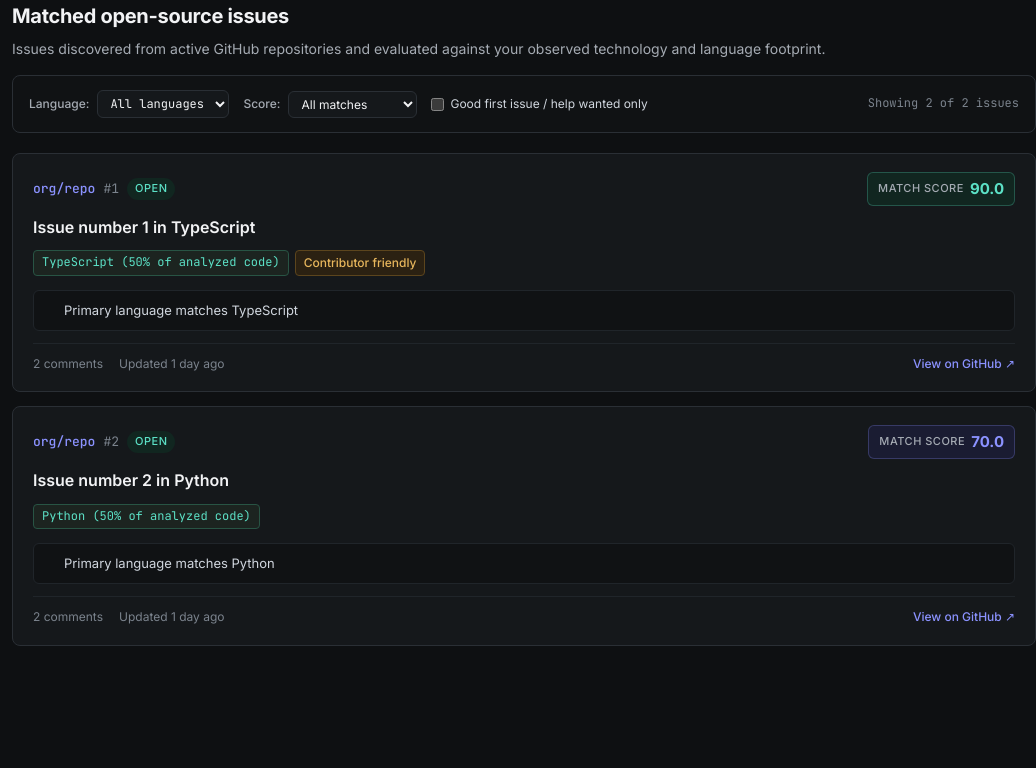
Test case: MatchedIssuesSection component › filters by contributor-friendly label
Click the checkbox labelled "Good first issue / help wanted only" at (438, 104), box [432,98,444,110]
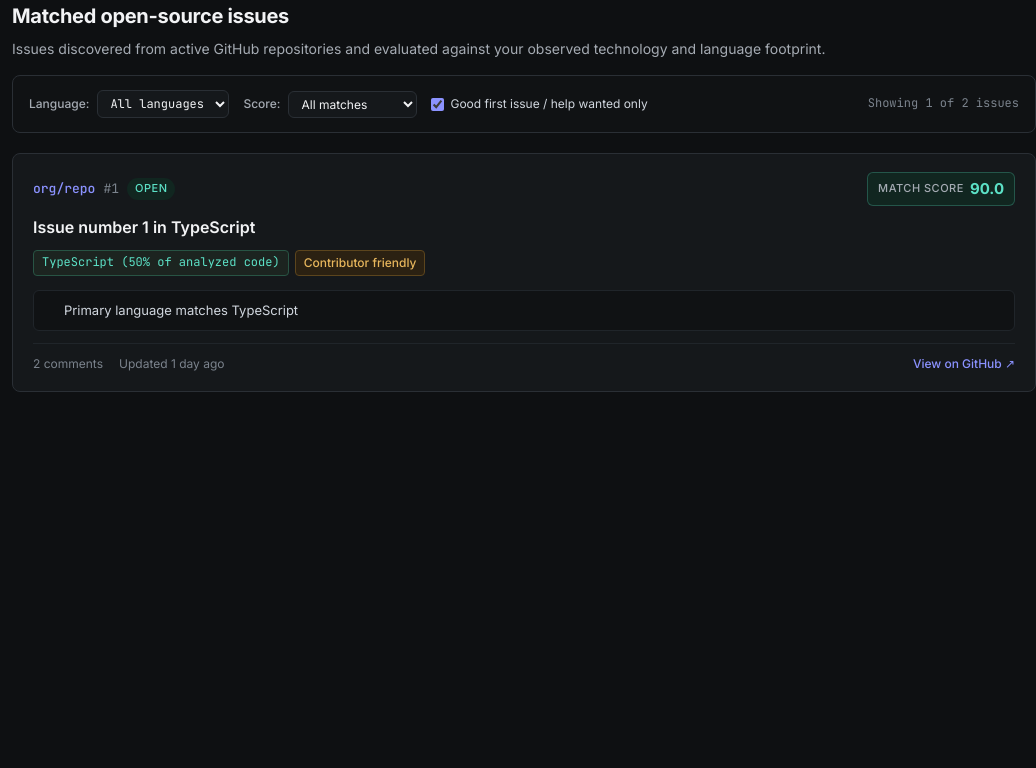
Expected: the link "Issue number 1 in TypeScript" is shown, [33,217,255,237]
Now the text "Showing 1 of 2 issues" is shown, box [868,94,1019,114]
Now the link "Issue number 2 in Python" is gone
